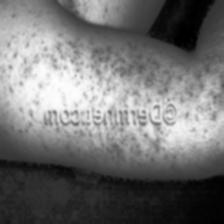Non-Cancerous Skin Condition: (6, 41, 160, 104)
